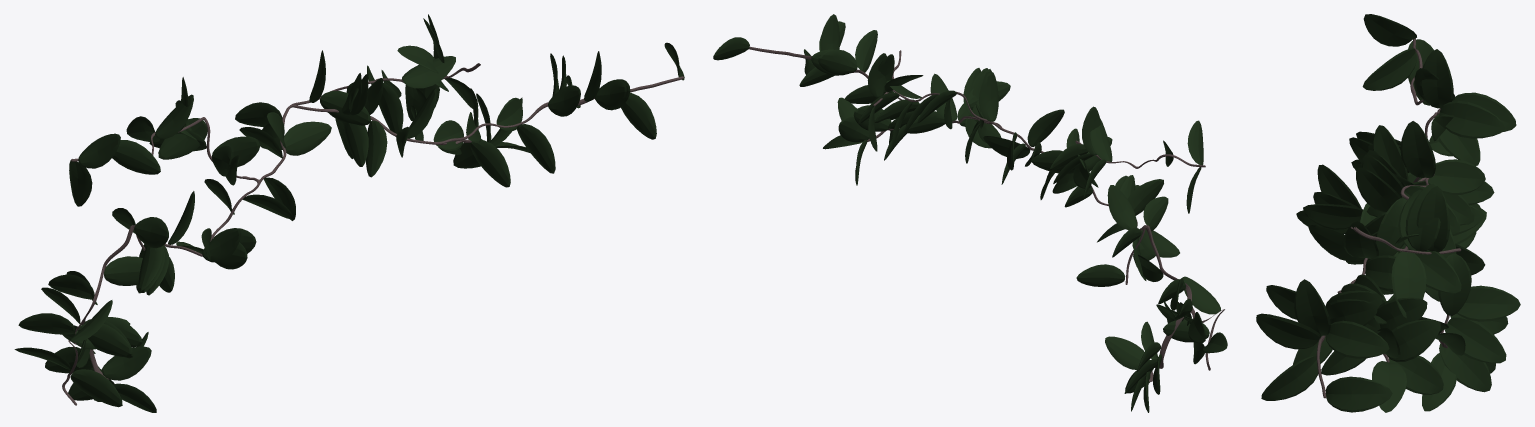
File: лоза.fbx
3 renders of one model, left to right at view 1: azimuth 30°, elevation 25°; view 2: azimuth 150°, elevation 25°; view 3: azimuth 270°, elevation 25°, orthographic. The views are drawn at different scales.
Parts seen in each view (by area): view 1: vine 2, vine 2|leaf 2|Dupli|27, vine 2|leaf 2|Dupli|53, vine 2|leaf 2|Dupli|77, vine 2|leaf 2|Dupli|91, vine 2|leaf 2|Dupli|58, vine 2|leaf 2|Dupli|71, vine 2|leaf 2|Dupli|11, vine 2|leaf 2|Dupli|86, vine 2|leaf 2|Dupli|3, vine 2|leaf 2|Dupli|78, vine 2|leaf 2|Dupli|43 (+21 smaller); view 2: vine 2, vine 2|leaf 2|Dupli|60, vine 2|leaf 2|Dupli|65, vine 2|leaf 2|Dupli|37, vine 2|leaf 2|Dupli|80, vine 2|leaf 2|Dupli|9, vine 2|leaf 2|Dupli|26, vine 2|leaf 2|Dupli|50, vine 2|leaf 2|Dupli|34, vine 2|leaf 2|Dupli|10, vine 2|leaf 2|Dupli|41, vine 2|leaf 2|Dupli|42 (+13 smaller); view 3: vine 2|leaf 2|Dupli|, vine 2|leaf 2|Dupli|7, vine 2|leaf 2|Dupli|72, vine 2|leaf 2|Dupli|57, vine 2|leaf 2|Dupli|55, vine 2|leaf 2|Dupli|24, vine 2|leaf 2|Dupli|89, vine 2|leaf 2|Dupli|80, vine 2|leaf 2|Dupli|3, vine 2|leaf 2|Dupli|94, vine 2|leaf 2|Dupli|74, vine 2|leaf 2|Dupli|4 (+46 smaller).
Part boxes in pixels (x1,y1,x2,y2): vine 2: [62, 63, 683, 405]; vine 2|leaf 2|Dupli|27: [284, 121, 331, 155]; vine 2|leaf 2|Dupli|53: [70, 369, 122, 407]; vine 2|leaf 2|Dupli|77: [112, 140, 160, 174]; vine 2|leaf 2|Dupli|91: [470, 140, 510, 187]; vine 2|leaf 2|Dupli|58: [102, 346, 151, 380]; vine 2|leaf 2|Dupli|71: [158, 118, 207, 159]; vine 2|leaf 2|Dupli|11: [517, 124, 555, 173]; vine 2|leaf 2|Dupli|86: [402, 56, 455, 88]; vine 2|leaf 2|Dupli|3: [621, 92, 656, 139]; vine 2|leaf 2|Dupli|78: [78, 133, 120, 168]; vine 2|leaf 2|Dupli|43: [104, 256, 142, 285]; vine 2: [749, 46, 1224, 381]; vine 2|leaf 2|Dupli|60: [1105, 336, 1149, 369]; vine 2|leaf 2|Dupli|65: [1076, 264, 1125, 286]; vine 2|leaf 2|Dupli|37: [1107, 185, 1137, 230]; vine 2|leaf 2|Dupli|80: [979, 71, 998, 121]; vine 2|leaf 2|Dupli|9: [818, 49, 857, 74]; vine 2|leaf 2|Dupli|26: [1027, 109, 1064, 146]; vine 2|leaf 2|Dupli|50: [1182, 276, 1220, 314]; vine 2|leaf 2|Dupli|34: [1127, 179, 1163, 215]; vine 2|leaf 2|Dupli|10: [855, 30, 877, 72]; vine 2|leaf 2|Dupli|41: [1140, 229, 1179, 256]; vine 2|leaf 2|Dupli|42: [1143, 196, 1168, 231]; vine 2|leaf 2|Dupli|: [1325, 376, 1392, 412]; vine 2|leaf 2|Dupli|7: [1325, 320, 1389, 358]; vine 2|leaf 2|Dupli|72: [1439, 100, 1505, 138]; vine 2|leaf 2|Dupli|57: [1445, 316, 1506, 363]; vine 2|leaf 2|Dupli|55: [1457, 285, 1520, 321]; vine 2|leaf 2|Dupli|24: [1428, 159, 1485, 194]; vine 2|leaf 2|Dupli|89: [1391, 251, 1426, 318]; vine 2|leaf 2|Dupli|80: [1400, 121, 1435, 177]; vine 2|leaf 2|Dupli|3: [1261, 356, 1320, 400]; vine 2|leaf 2|Dupli|94: [1387, 319, 1440, 361]; vine 2|leaf 2|Dupli|74: [1419, 49, 1453, 108]; vine 2|leaf 2|Dupli|4: [1256, 315, 1320, 349].
Bounding box in the file's own units: 223 × 112 × 69.56.
